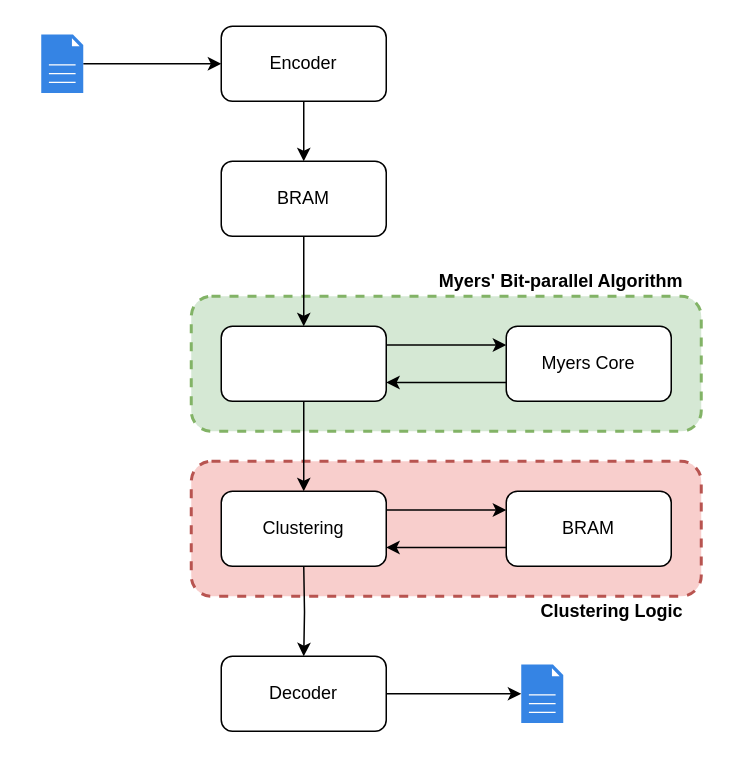
Image size: 729x780. Some labels were removed from this diagram. The centre of each missing label's shape, as x and y in pixels:
"Myers Controller" belongs at point (303, 363).
"sorted_strand.txt" belongs at point (541, 693).
"strand.txt" belongs at point (61, 63).
